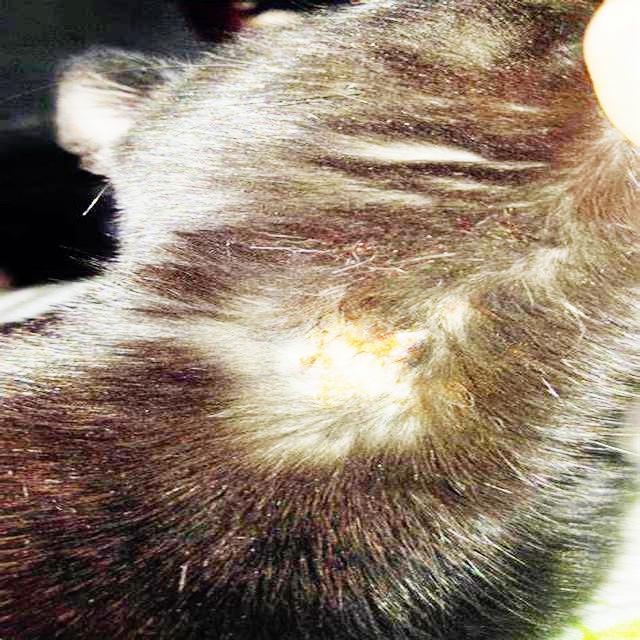ringworm: (290, 305, 405, 401)
